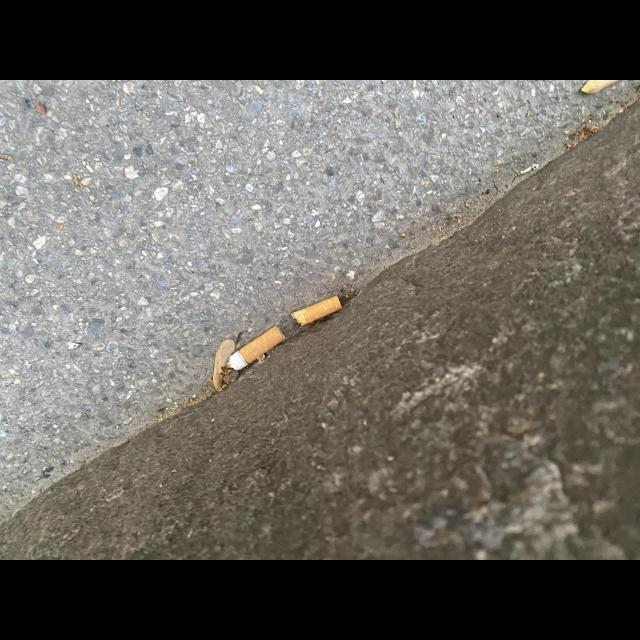cigarette: (229, 326, 285, 370), (290, 295, 342, 326)
